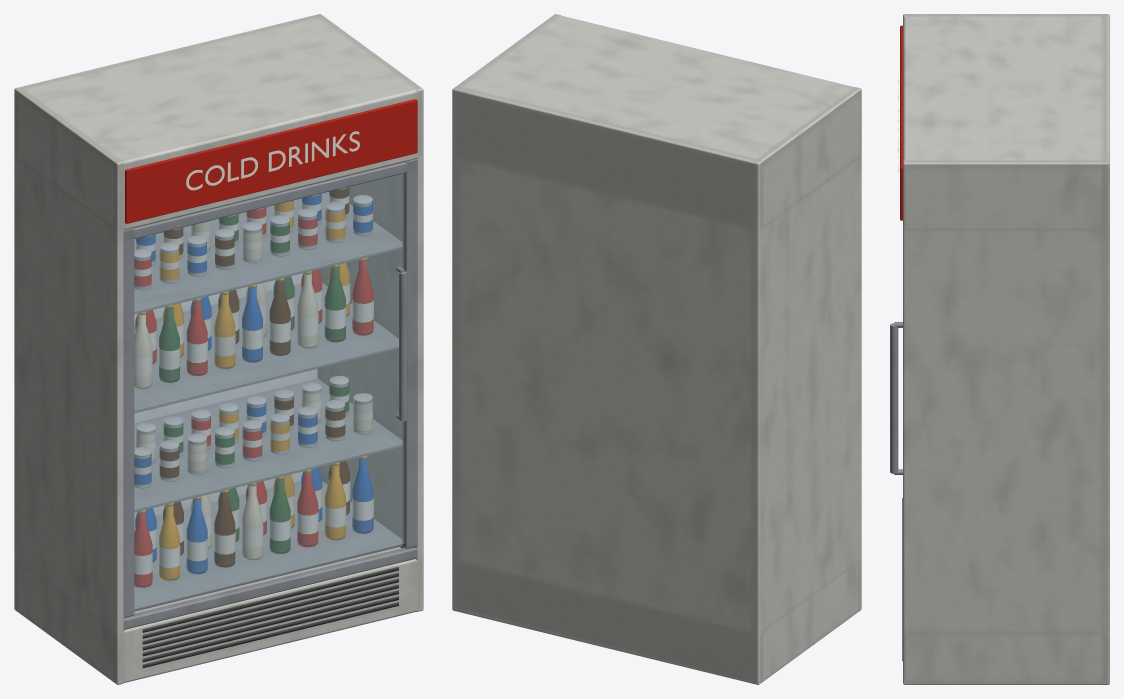
The model's file is sklep_lodowka.glb.
3 renders of one model, left to right at view 1: azimuth 30°, elevation 25°; view 2: azimuth 150°, elevation 25°; view 3: azimuth 270°, elevation 25°, orthographic.
Visible parts, largest first — view 1: Chlodziarka, Szyba, Napisy; view 2: Chlodziarka; view 3: Chlodziarka, Napisy.
Boxes of the visible parts, box(x1,y1,x2,y2) form: Chlodziarka: box(14, 14, 423, 684); Szyba: box(134, 174, 404, 609); Napisy: box(125, 99, 417, 223); Chlodziarka: box(452, 14, 861, 684); Chlodziarka: box(890, 14, 1109, 684); Napisy: box(898, 25, 902, 220).
Size of the model in its own units: 1.2 by 1.95 by 0.744.
4 materials, 1 textured.
